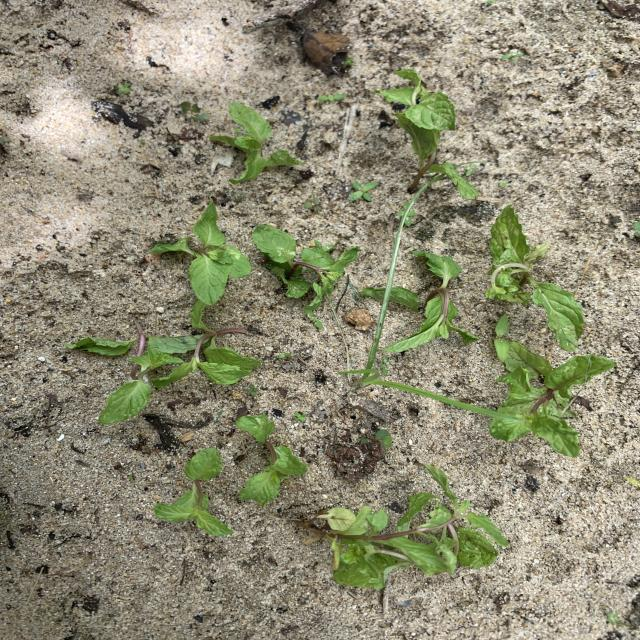crop: (326, 464, 507, 587), (100, 285, 259, 423), (490, 342, 615, 455), (487, 205, 583, 351), (377, 69, 478, 199), (360, 251, 477, 353), (152, 200, 251, 307), (252, 224, 359, 309), (210, 102, 302, 183), (154, 448, 231, 535)
weed: (343, 191, 513, 420), (236, 414, 307, 504), (494, 315, 510, 362), (607, 610, 633, 634), (350, 180, 378, 201), (181, 101, 207, 123), (374, 429, 392, 450), (305, 308, 322, 328), (318, 92, 346, 102), (304, 197, 322, 212), (501, 50, 524, 61), (114, 82, 131, 96), (245, 384, 259, 397), (295, 412, 306, 423), (279, 353, 291, 359)
